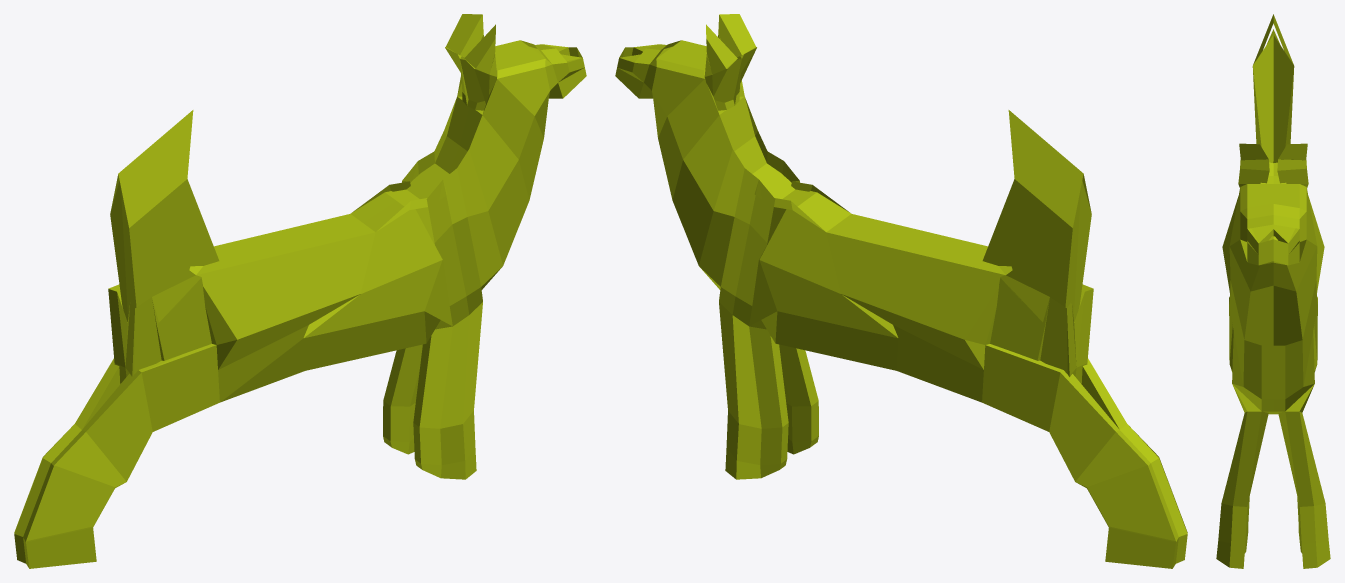
Rendered from dog.obj.
The picture shows the model from 3 angles, left to right: view 1: azimuth 30°, elevation 25°; view 2: azimuth 150°, elevation 25°; view 3: azimuth 270°, elevation 25°; orthographic projection. The views are drawn at different scales.
Parts seen in each view (by area): view 1: Plane_Plane.001; view 2: Plane_Plane.001; view 3: Plane_Plane.001.
Part boxes in pixels (x1=…): Plane_Plane.001: x1=14, y1=14, x2=586, y2=568; Plane_Plane.001: x1=615, y1=14, x2=1187, y2=568; Plane_Plane.001: x1=1216, y1=14, x2=1330, y2=568.
Size of the model in its own units: 3.52 by 2.6 by 0.6034.
